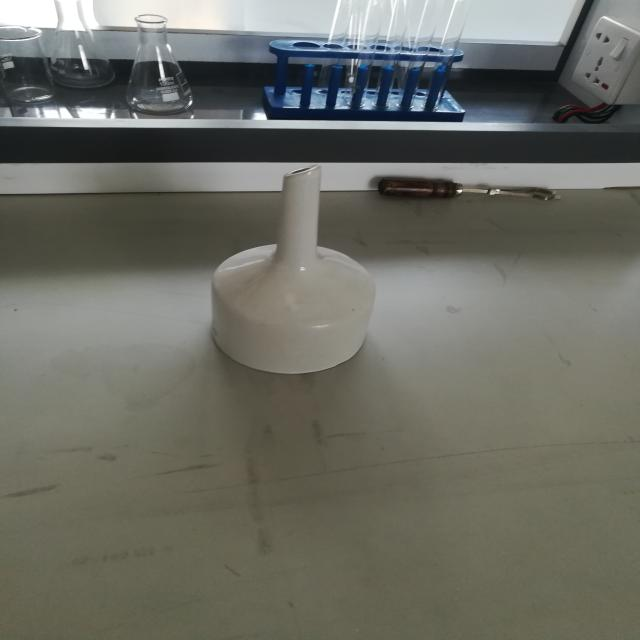Buchner_Funnel: (166, 146, 433, 422)
